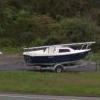Boat: (20, 42, 100, 73)
